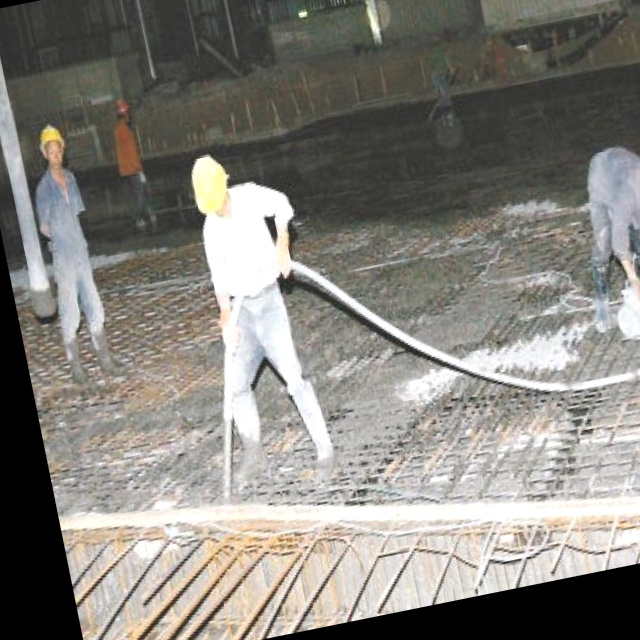Con_Casco: (184, 153, 233, 221), (34, 123, 69, 165)
